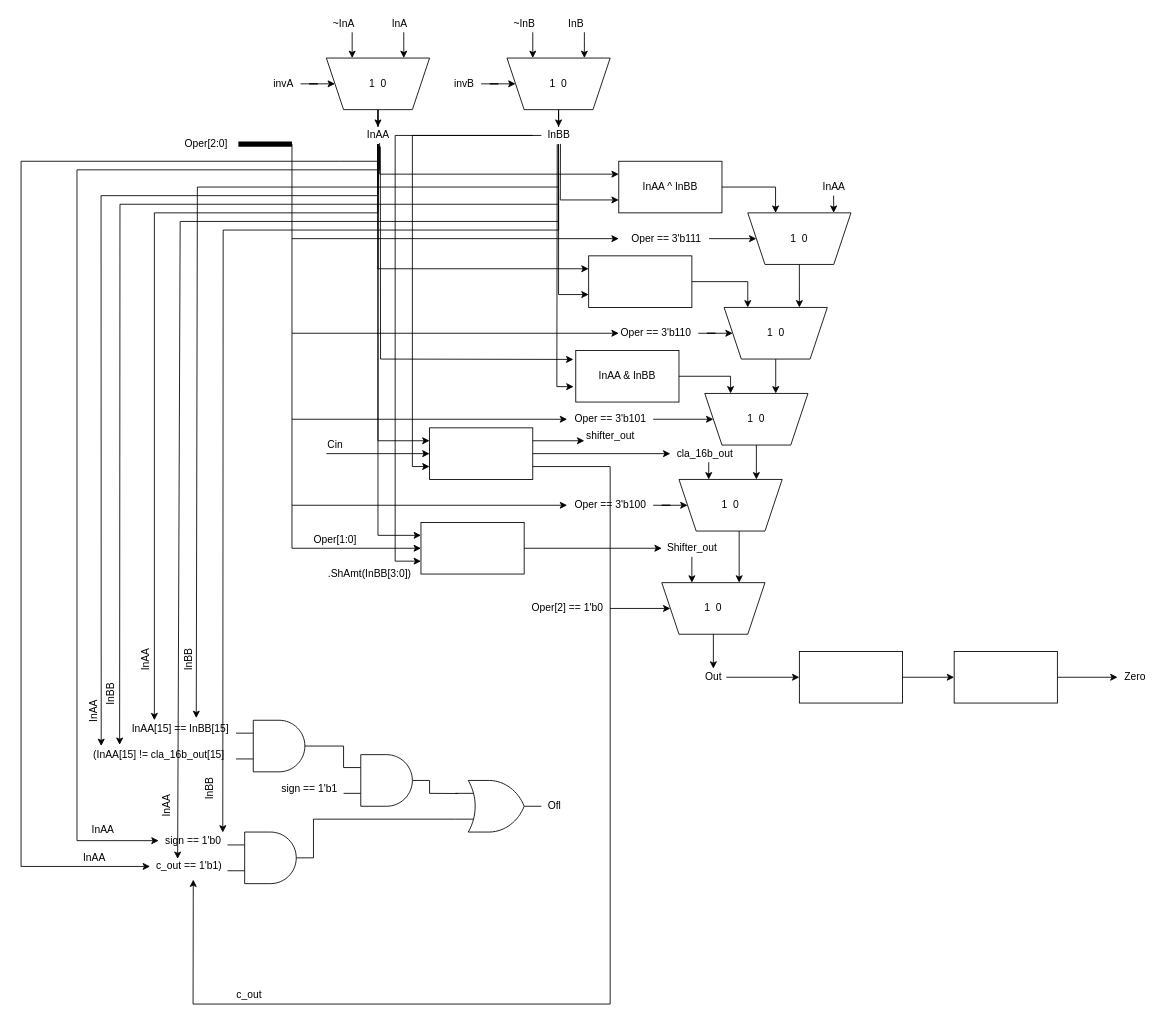
This 1167x1026 diagram has some shape labels left out. Each missing label, with the centre of its shape:
bit-wise NOT: the point at 1005,677
bit-wise OR: the point at 851,677
cla_16b: the point at 481,453
InAA | InBB: the point at 640,281
Shifter: the point at 472,548
